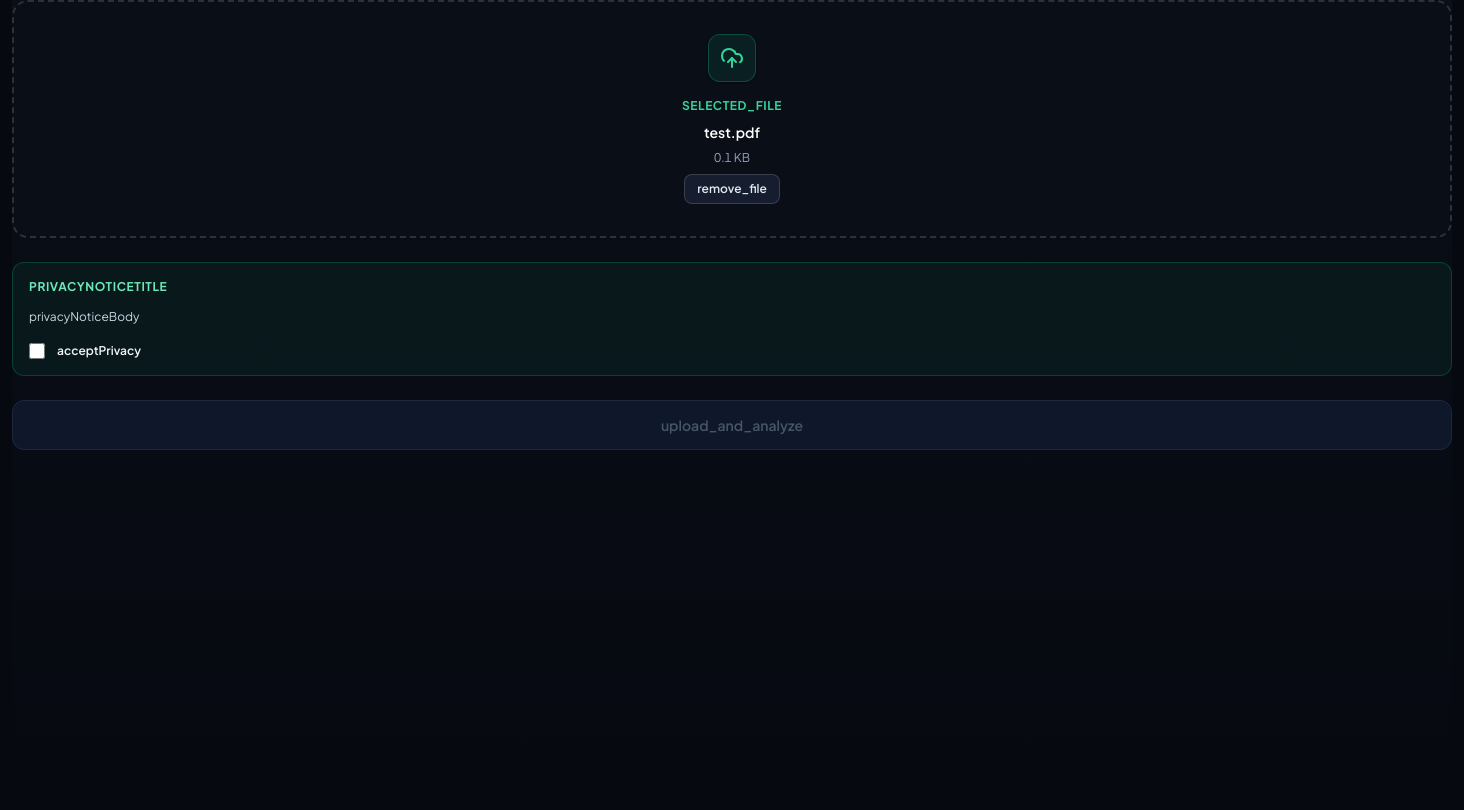
Test: DocumentUploadForm — slow preparation and stale state › stays on the processing screen while preparation is still running
The image size is (1464, 810).
Earlier steps of the test are not shown.
Click the checkbox at (37, 350), box [29,342,45,358]
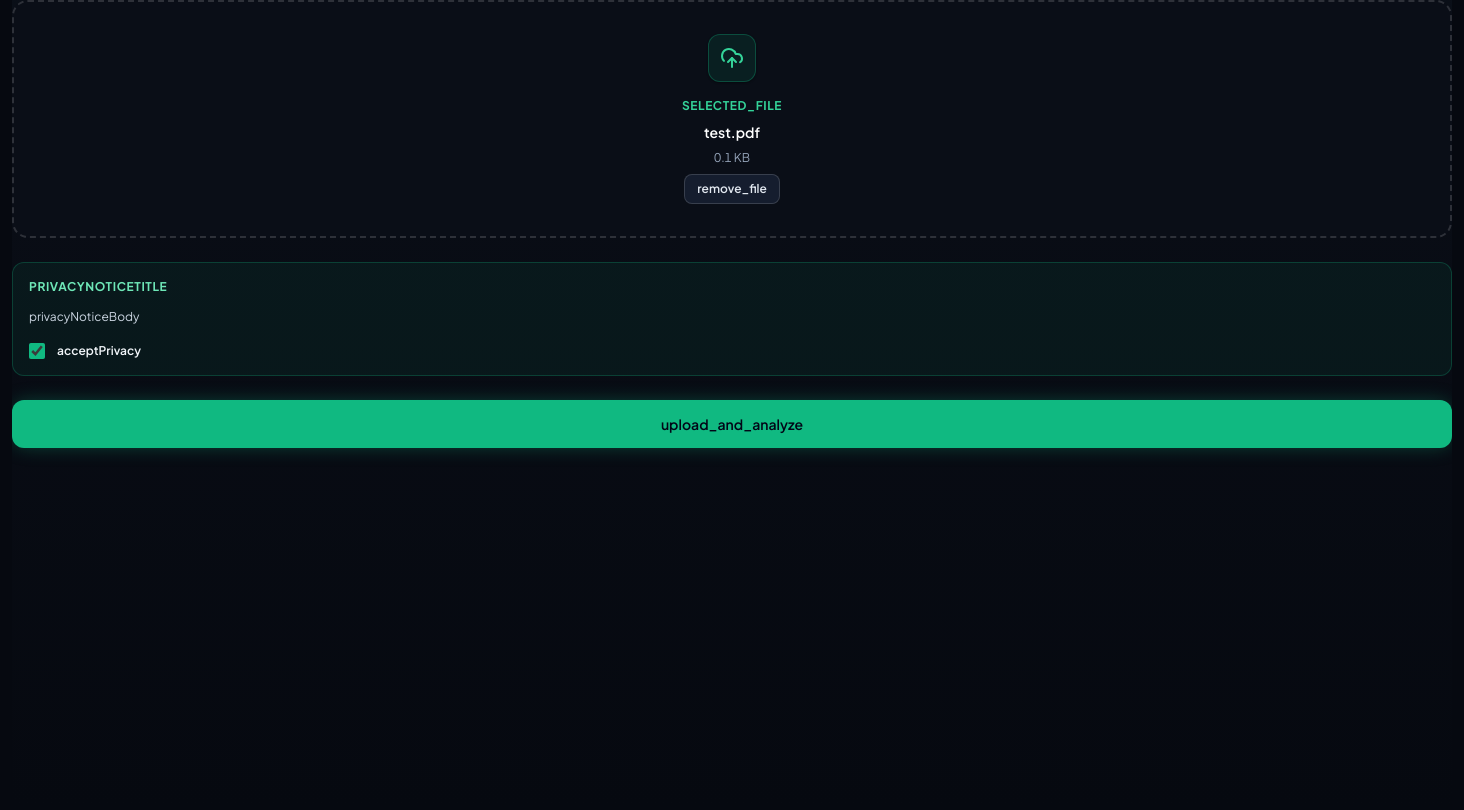
Click the button "upload_and_analyze" at (732, 424), box [12,400,1452,448]
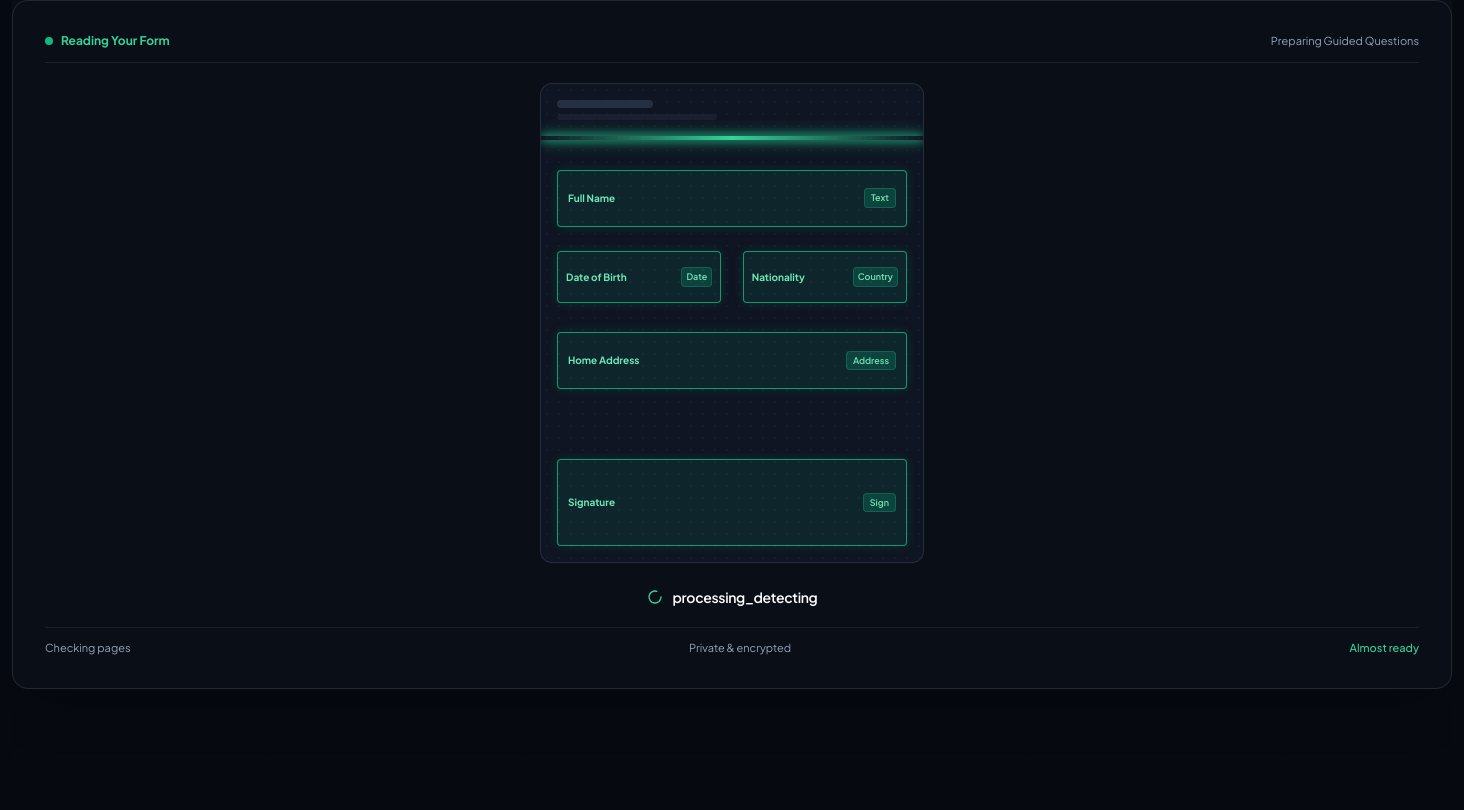
Check: the text "processing_detecting" is shown, box [673,586,817,606]
